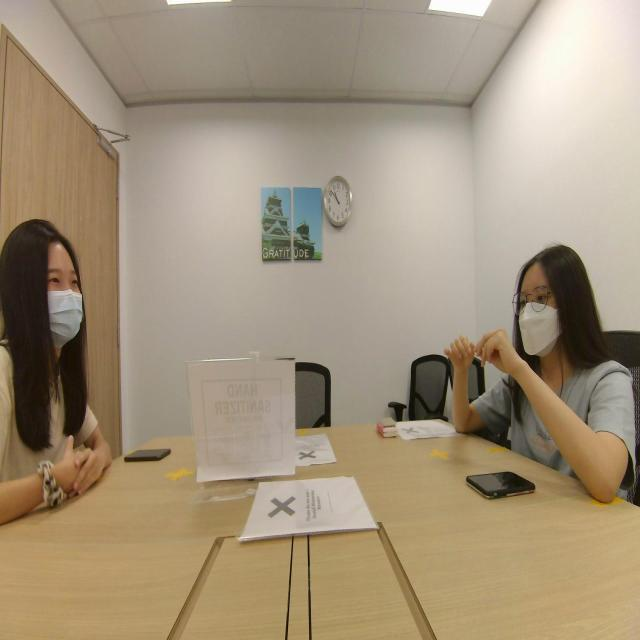obstacle: (449, 213, 638, 454), (1, 180, 110, 488)
